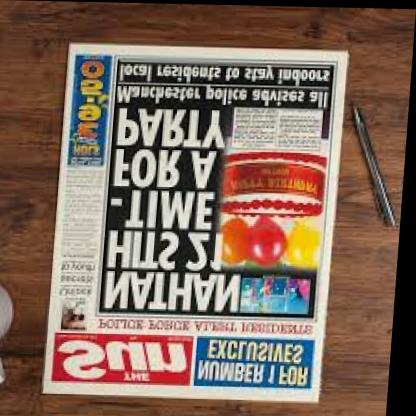Paper: (32, 38, 356, 413)
